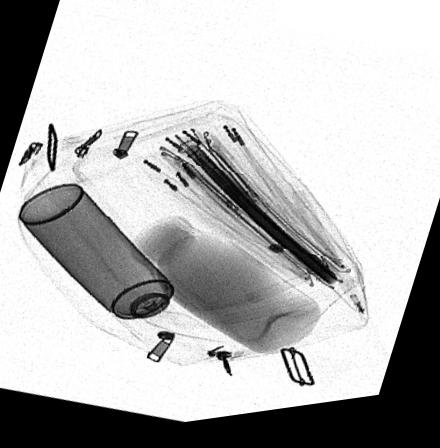Sprayer: (18, 183, 210, 358)
